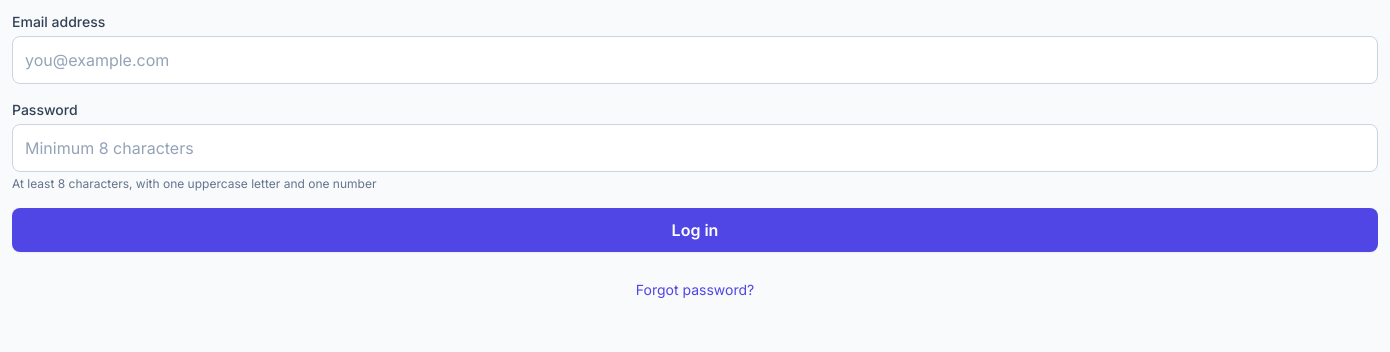
Test case: LoginForm › toggles the password reset help instead of being a dead link
Expected: the text "workspace administrator" is not shown
Click the button "Forgot password?": (695, 290) [636, 268, 754, 312]
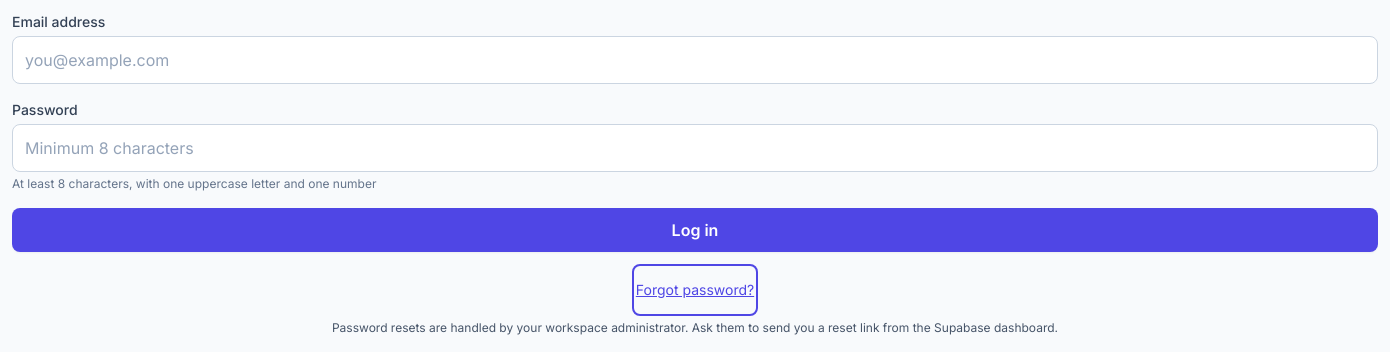
Expected: the button "Forgot password?" is expanded, [636, 268, 754, 312]
Expected: the text "workspace administrator" is shown, [332, 320, 1058, 335]
